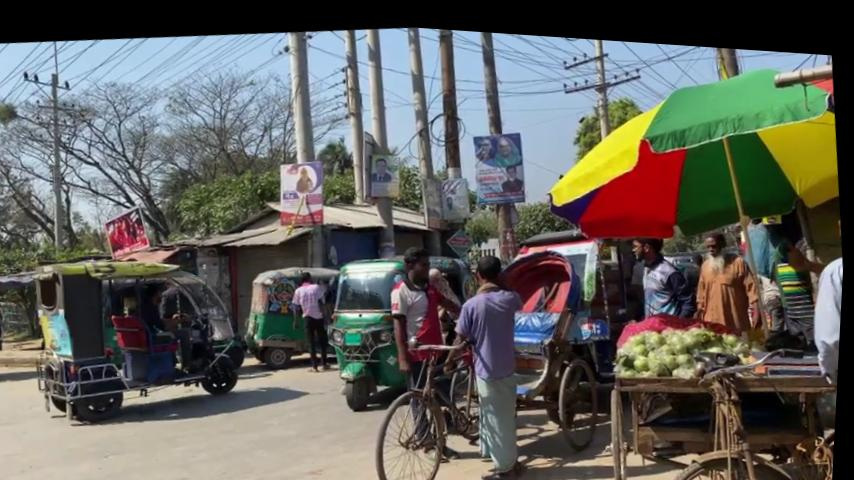Downstairs: (601, 321, 842, 480)
Fence: (431, 242, 546, 480), (380, 234, 483, 460), (287, 264, 338, 370)
Garbage: (466, 25, 527, 253), (426, 23, 478, 209), (278, 28, 330, 187), (393, 22, 442, 180), (335, 24, 375, 201), (359, 26, 404, 174)
Rickshaw: (25, 238, 259, 435), (249, 251, 353, 384)
